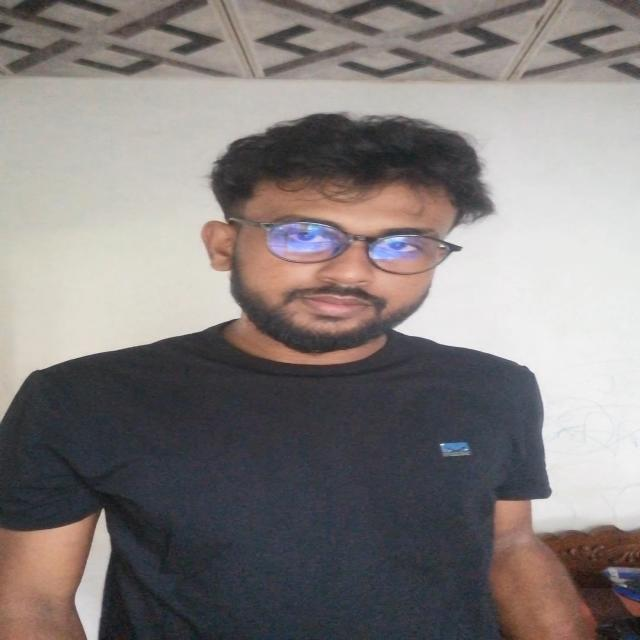Person: (1, 107, 639, 640)
